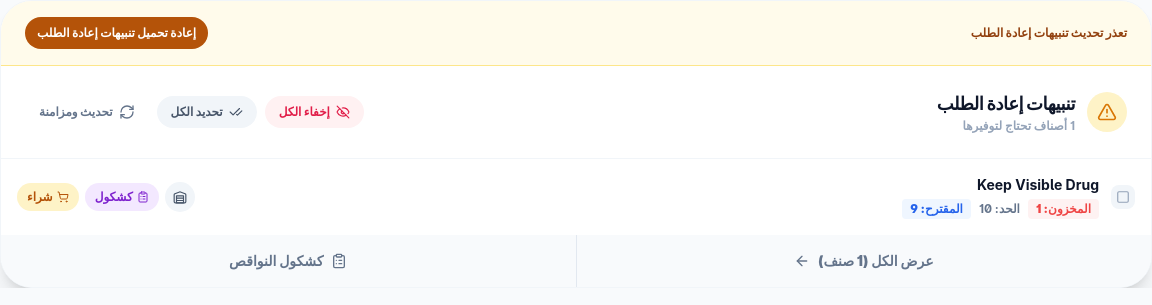
Scenario: reorder alert inventory link › keeps the last valid reorder alerts visible when a background refresh fails, then retries in place
Expected: the text "تعذر تحديث تنبيهات إعادة الطلب" is shown, x1=971 y1=25 x2=1127 y2=41
Expected: the text "Keep Visible Drug" is shown, x1=977 y1=176 x2=1099 y2=193
Step 1. Click the button "إعادة تحميل تنبيهات إعادة الطلب" → (117, 33), box x1=25 y1=17 x2=208 y2=49
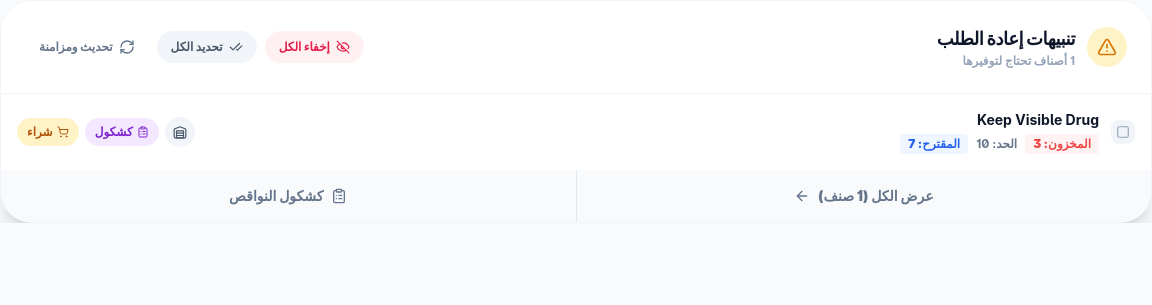
Now the text "المخزون: 3" is shown, box x1=1025 y1=134 x2=1099 y2=154
